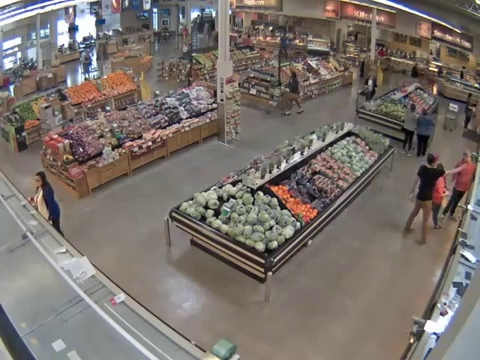face: (33, 174, 45, 187)
